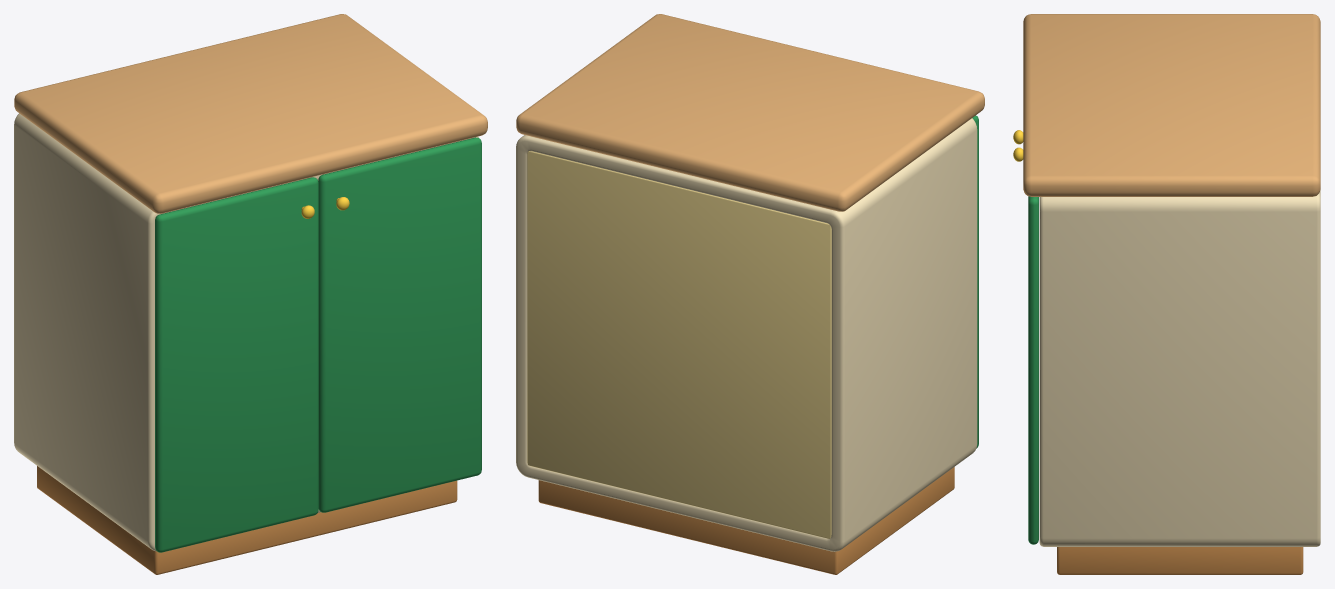
The model's file is armario_cozinha_base_2portas_creme.glb.
3 views of the same model, side by side, from view 1: azimuth 30°, elevation 25°; view 2: azimuth 150°, elevation 25°; view 3: azimuth 270°, elevation 25° (orthographic). The views are drawn at different scales.
Parts seen in each view (by area): view 1: armario_cozinha_base_2portas_creme, porta_1, porta_2; view 2: armario_cozinha_base_2portas_creme, porta_1; view 3: armario_cozinha_base_2portas_creme, porta_2.
Boxes of the visible parts, left/top/right/bottom form: armario_cozinha_base_2portas_creme: left=14, top=14, right=487, bottom=574; porta_1: left=155, top=177, right=318, bottom=552; porta_2: left=318, top=137, right=481, bottom=512; armario_cozinha_base_2portas_creme: left=516, top=14, right=984, bottom=574; porta_1: left=972, top=115, right=978, bottom=448; armario_cozinha_base_2portas_creme: left=1023, top=14, right=1320, bottom=574; porta_2: left=1013, top=147, right=1038, bottom=544.
Bounding box in the file's own units: 0.798 × 0.9 × 0.619.
1 material, 1 textured.
